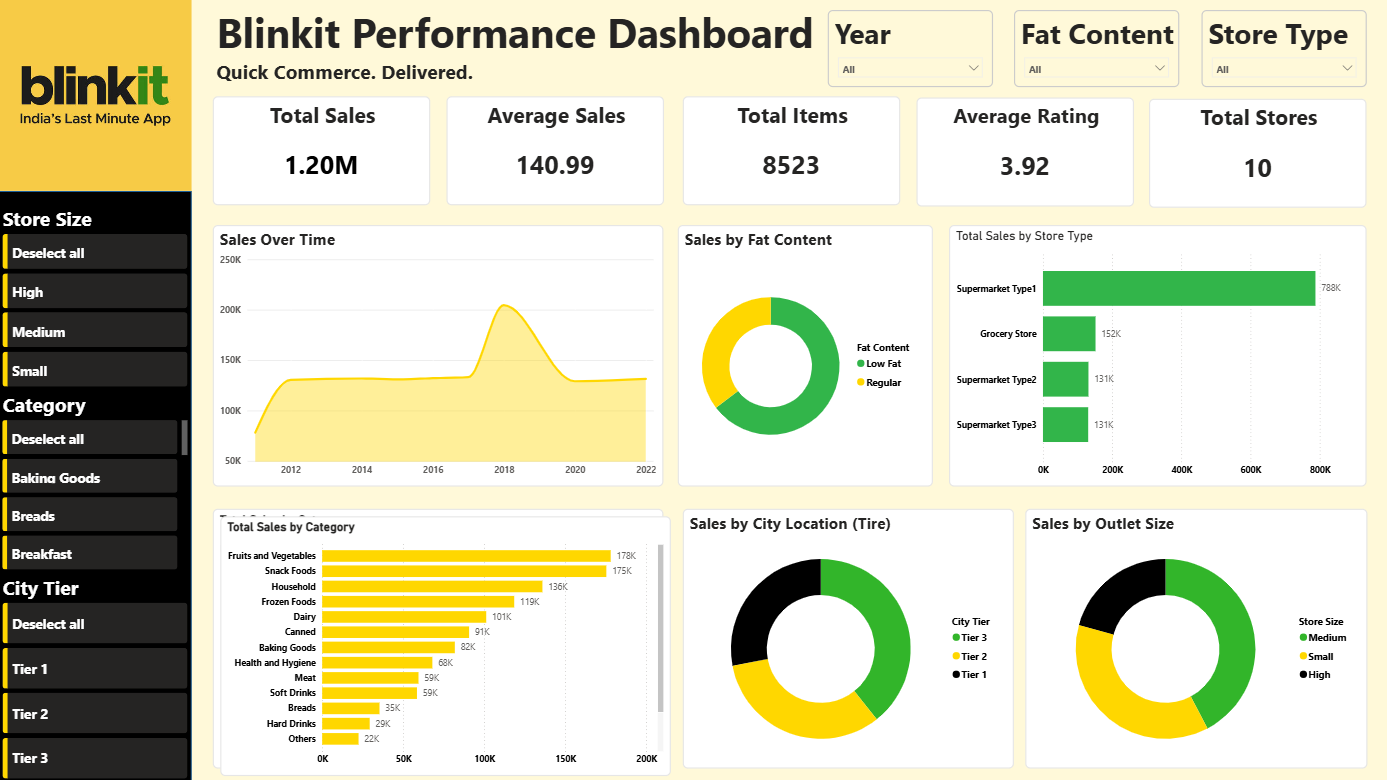

The dashboard page shown, as its layout file describes it:
{"tool":"powerbi","page":{"name":"Page 1","canvas":[1920,1080],"ordinal":0},"visuals":[{"type":"shape","box":[0,263.5,265.5,817.2],"z":0},{"type":"image","box":[0,0,265.5,263.5],"z":1000},{"type":"card","title":"Total Sales","fields":{"Values":["BlinkIT Grocery Data.Total Sales"]},"box":[295.7,132.6,300,150],"z":2000},{"type":"card","title":"Total Stores","fields":{"Values":["BlinkIT Grocery Data.Total Stores"]},"box":[1587,137,300,150],"z":3000},{"type":"card","title":"Average Rating","fields":{"Values":["BlinkIT Grocery Data.Average Customer Rating"]},"box":[1265.2,134.8,300,150],"z":4000},{"type":"card","title":"Total Items","fields":{"Values":["BlinkIT Grocery Data.Total Items"]},"box":[943.5,132.6,300,150],"z":5000},{"type":"card","title":"Average Sales","fields":{"Values":["BlinkIT Grocery Data.Average Sales"]},"box":[617.4,132.6,300,150],"z":6000},{"type":"lineChart","title":"Sales Over Time","fields":{"Category":["BlinkIT Grocery Data.Store Opened (Year)"],"Y":["BlinkIT Grocery Data.Total Sales"]},"box":[295.7,310.9,621.7,360.9],"z":7000},{"type":"donutChart","title":"Sales by Fat Content","fields":{"Y":["BlinkIT Grocery Data.Total Sales"],"Category":["BlinkIT Grocery Data.Fat Content"]},"box":[937,310.9,352.2,360.9],"z":8000},{"type":"barChart","fields":{"Y":["BlinkIT Grocery Data.Total Sales"],"Category":["BlinkIT Grocery Data.Store Type"]},"box":[1310.9,310.9,576.1,360.9],"z":9000},{"type":"donutChart","title":"Sales by City Location (Tire)","fields":{"Y":["BlinkIT Grocery Data.Total Sales"],"Category":["BlinkIT Grocery Data.City Tier"]},"box":[943.5,702.2,456.5,358.7],"z":10000},{"type":"barChart","fields":{"Y":["BlinkIT Grocery Data.Total Sales"],"Category":["BlinkIT Grocery Data.Category"]},"box":[295.7,702.2,621.7,358.7],"z":11000},{"type":"donutChart","title":"Sales by Outlet Size","fields":{"Y":["BlinkIT Grocery Data.Total Sales"],"Category":["BlinkIT Grocery Data.Store Size"]},"box":[1415.2,702.2,471.7,358.7],"z":12000},{"type":"textbox","box":[295.7,0,847.8,132.6],"z":13000},{"type":"slicer","title":"Year","fields":{"Values":["BlinkIT Grocery Data.Store Opened (Year)"]},"box":[1143.5,13,228.3,106.5],"z":14000},{"type":"slicer","title":"Fat Content","fields":{"Values":["BlinkIT Grocery Data.Fat Content"]},"box":[1400,13,228.3,106.5],"z":15000},{"type":"slicer","title":"Store Type","fields":{"Values":["BlinkIT Grocery Data.Store Type"]},"box":[1658.7,13,228.3,106.5],"z":16000},{"type":"advancedSlicerVisual","fields":{"Values":["BlinkIT Grocery Data.Store Size"]},"box":[0,282.6,265.2,256.5],"z":17000},{"type":"advancedSlicerVisual","fields":{"Values":["BlinkIT Grocery Data.Category"]},"box":[0,539.1,265.2,252.2],"z":18000},{"type":"advancedSlicerVisual","fields":{"Values":["BlinkIT Grocery Data.City Tier"]},"box":[0,791.3,265.2,289.1],"z":20000}]}

Visuals, with their boxes in screenshot pixels (x1, y1, x2, y2), scaled from the page's 1920x1080 canvas onto the 1387x780 screenshot:
shape: box=[0, 190, 192, 779]
image: box=[0, 0, 192, 190]
"Total Sales" card: box=[214, 96, 430, 204]
"Total Stores" card: box=[1146, 99, 1363, 207]
"Average Rating" card: box=[914, 97, 1131, 206]
"Total Items" card: box=[682, 96, 898, 204]
"Average Sales" card: box=[446, 96, 663, 204]
"Sales Over Time" lineChart: box=[214, 225, 663, 485]
"Sales by Fat Content" donutChart: box=[677, 225, 931, 485]
barChart - BlinkIT Grocery Data.Total Sales x BlinkIT Grocery Data.Store Type: box=[947, 225, 1363, 485]
"Sales by City Location (Tire)" donutChart: box=[682, 507, 1011, 766]
barChart - BlinkIT Grocery Data.Total Sales x BlinkIT Grocery Data.Category: box=[214, 507, 663, 766]
"Sales by Outlet Size" donutChart: box=[1022, 507, 1363, 766]
textbox: box=[214, 0, 826, 96]
"Year" slicer: box=[826, 9, 991, 86]
"Fat Content" slicer: box=[1011, 9, 1176, 86]
"Store Type" slicer: box=[1198, 9, 1363, 86]
advancedSlicerVisual - BlinkIT Grocery Data.Store Size: box=[0, 204, 192, 389]
advancedSlicerVisual - BlinkIT Grocery Data.Category: box=[0, 389, 192, 571]
advancedSlicerVisual - BlinkIT Grocery Data.City Tier: box=[0, 571, 192, 779]
